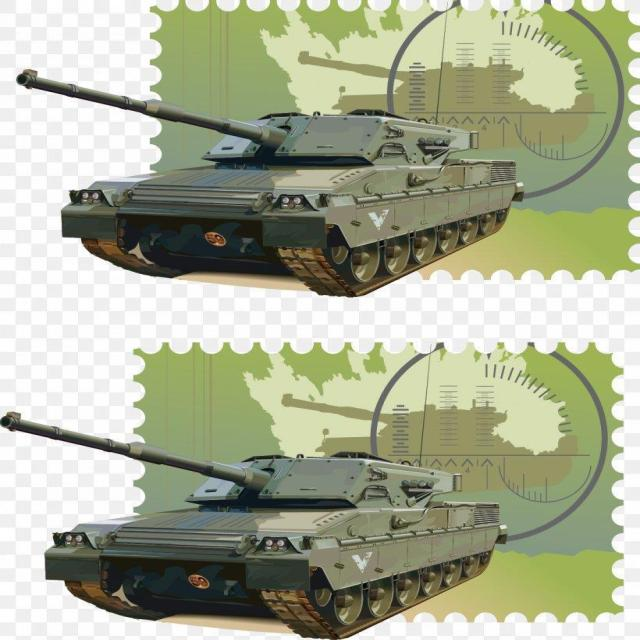Tanks: (13, 4, 533, 332), (3, 394, 520, 615)
